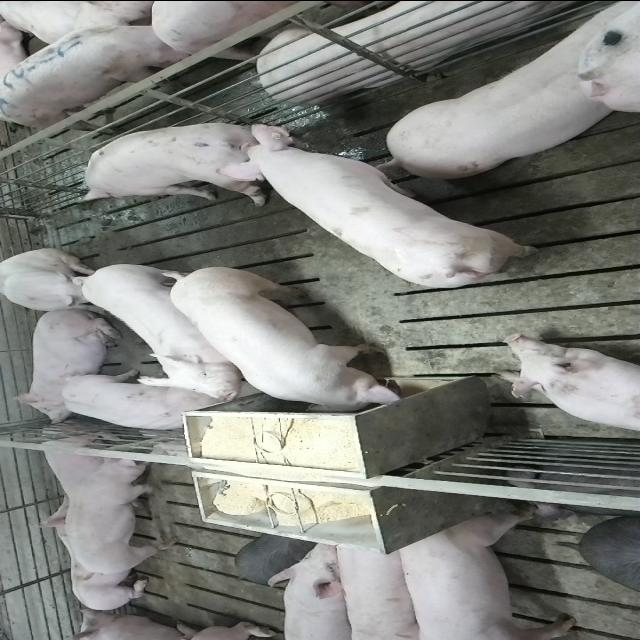Feeding: (164, 269, 408, 422)
Sitting: (0, 248, 109, 312)
Standing: (241, 128, 550, 292), (377, 5, 632, 182), (389, 508, 584, 639), (76, 258, 256, 398), (0, 18, 208, 126), (75, 118, 278, 206), (64, 448, 178, 576), (331, 535, 426, 637), (60, 372, 218, 433), (268, 538, 354, 640)
Sternal_lying: (152, 0, 582, 102), (499, 334, 640, 436), (30, 498, 156, 608), (14, 310, 126, 423), (33, 427, 118, 500)
